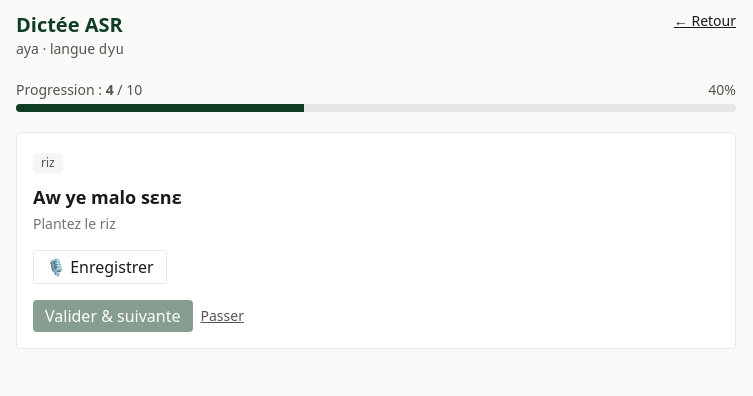
Test case: DictationView — envoi de l'extrait › affiche l'erreur API et conserve l'extrait pour un nouvel essai
This screenshot has width=753, height=396.
Click the button "🎙️ Enregistrer": click(100, 267) [33,250,167,284]
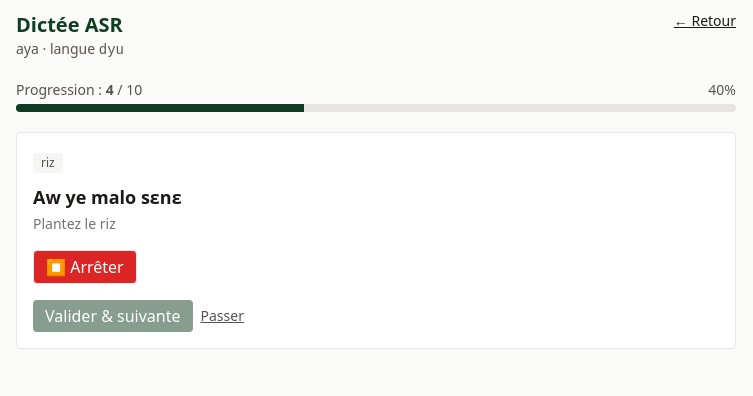
Click the button "⏹️ Arrêter": click(85, 267) [33,250,137,284]
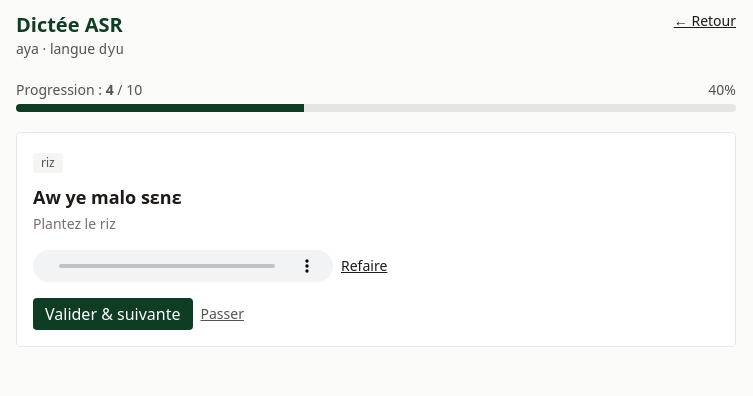
Click the button "Valider & suivante": click(113, 314) [33,298,192,330]
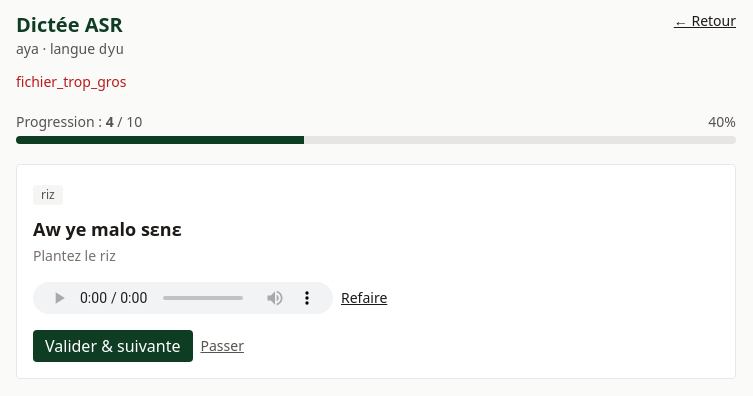
Expected: the text "Aw ye malo sɛnɛ" is shown, [33,217,182,241]
Now the text "fichier_trop_gros" is shown, box [16,72,126,91]
